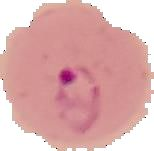parasitized: (8, 10, 143, 143), (56, 62, 105, 137)
